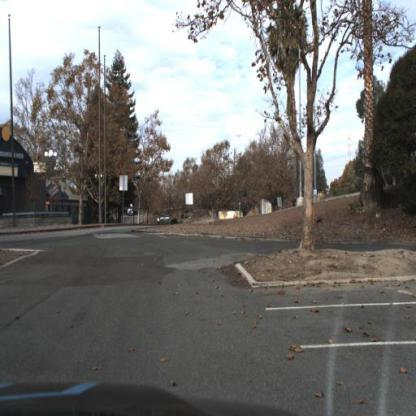car: (161, 216, 171, 223)
truck: (128, 200, 140, 217)
